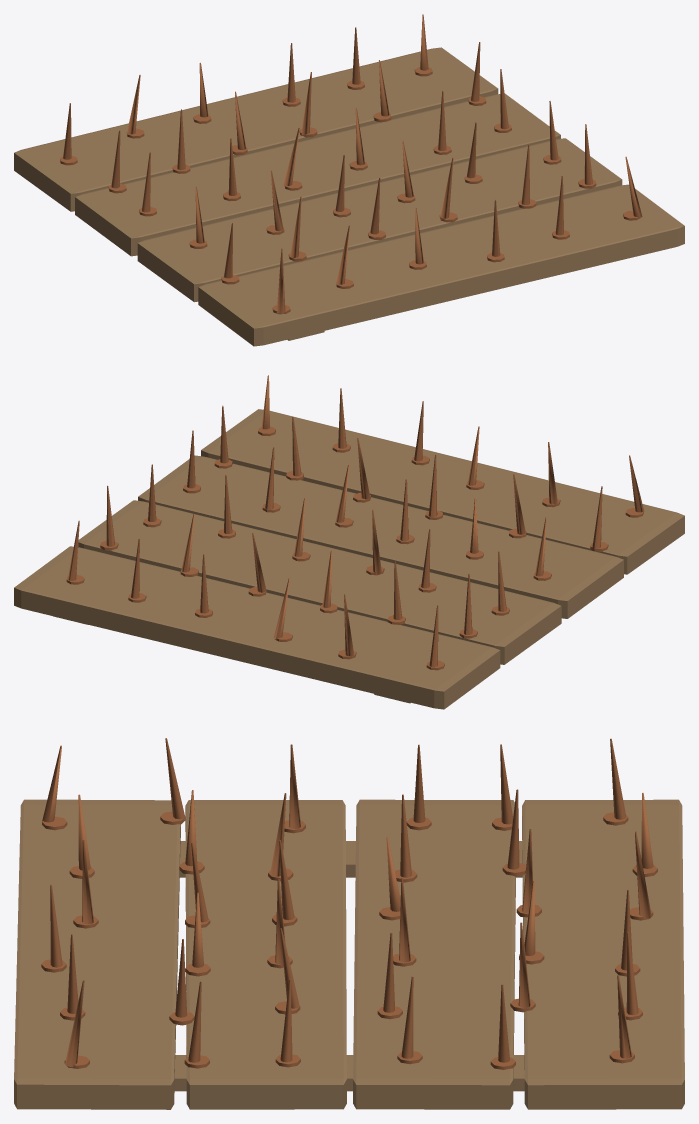
The model's file is NailBoard.fbx.
3 views of the same model, one above another, from view 1: azimuth 30°, elevation 25°; view 2: azimuth 150°, elevation 25°; view 3: azimuth 270°, elevation 25° (orthographic). The views are drawn at different scales.
Visible parts, largest first — view 1: NailBoard; view 2: NailBoard; view 3: NailBoard.
Boxes of the visible parts, <box> form: NailBoard: <box>14,14,684,346</box>; NailBoard: <box>14,375,684,709</box>; NailBoard: <box>14,738,684,1109</box>.
Bounding box in the file's own units: 241 × 44 × 239.
